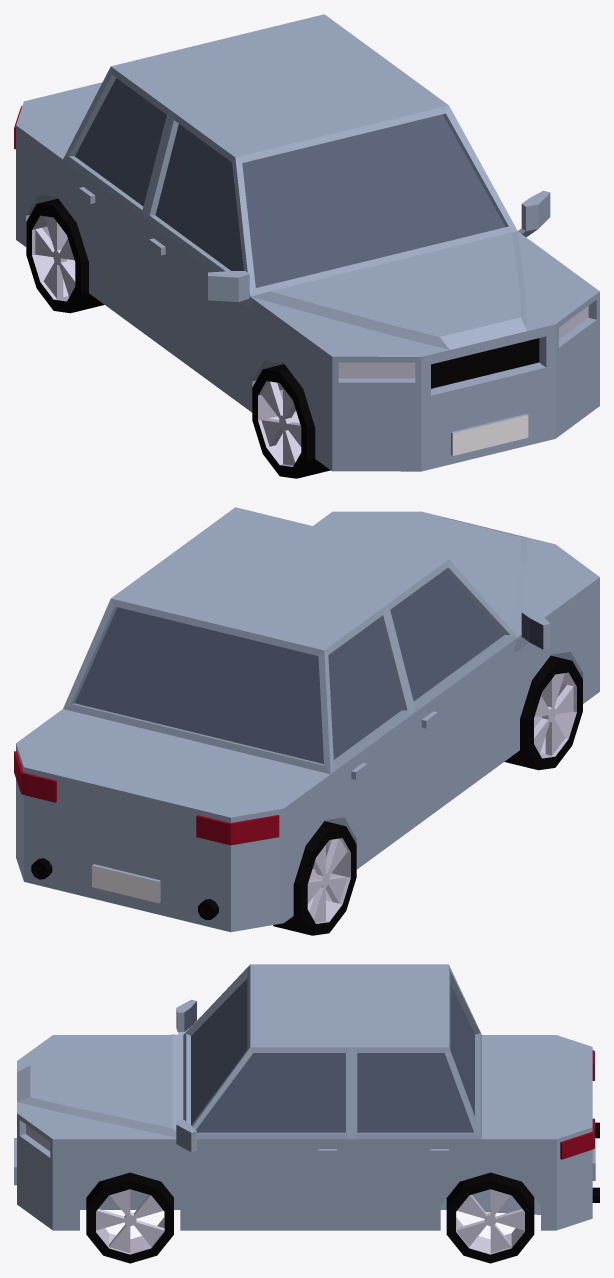
The model's file is Sedan.glb.
3 renders of one model, top to bottom at view 1: azimuth 30°, elevation 25°; view 2: azimuth 150°, elevation 25°; view 3: azimuth 270°, elevation 25°, orthographic. The views are drawn at different scales.
Visible parts, largest first — view 1: Sedan, Sedan wheel front right, Sedan wheel rear right; view 2: Sedan, Sedan wheel rear right, Sedan wheel front right; view 3: Sedan, Sedan wheel rear left, Sedan wheel front left.
Boxes of the visible parts, x1=… form: Sedan: x1=14, y1=14, x2=599, y2=471; Sedan wheel front right: x1=252, y1=364, x2=330, y2=478; Sedan wheel rear right: x1=26, y1=198, x2=104, y2=313; Sedan: x1=14, y1=507, x2=599, y2=932; Sedan wheel rear right: x1=273, y1=821, x2=356, y2=935; Sedan wheel front right: x1=504, y1=655, x2=582, y2=770; Sedan: x1=14, y1=964, x2=599, y2=1230; Sedan wheel rear left: x1=446, y1=1172, x2=534, y2=1263; Sedan wheel front left: x1=86, y1=1172, x2=173, y2=1263.
Bounding box in the file's own units: 281 × 201 × 523.
